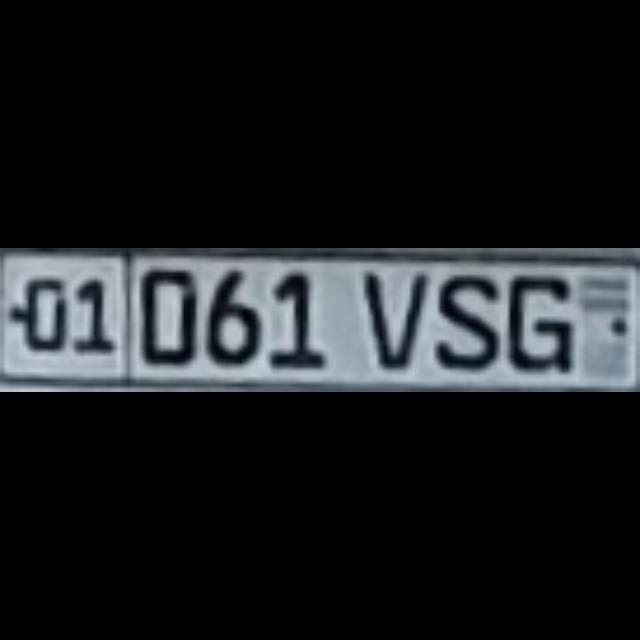0: (136, 262, 192, 360), (19, 272, 61, 346)
1: (266, 267, 318, 365), (70, 276, 108, 346)
6: (201, 262, 257, 364)
G: (500, 271, 570, 369)
S: (430, 272, 494, 364)
V: (360, 267, 424, 365)
